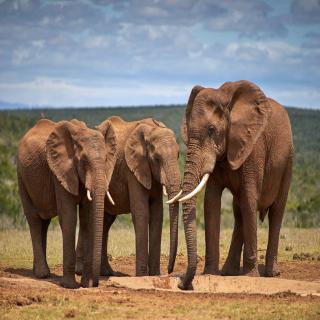Elephant: (167, 84, 301, 292), (17, 113, 117, 289), (101, 113, 183, 280)
